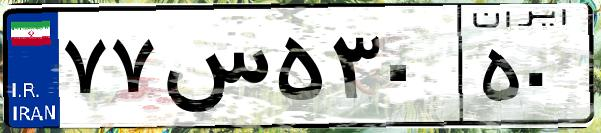0: (385, 28, 445, 110), (525, 38, 570, 115)
3: (330, 28, 385, 110)
5: (270, 28, 330, 110), (475, 38, 525, 113)
7: (57, 26, 110, 100), (110, 28, 158, 98)
س: (158, 20, 270, 120)
